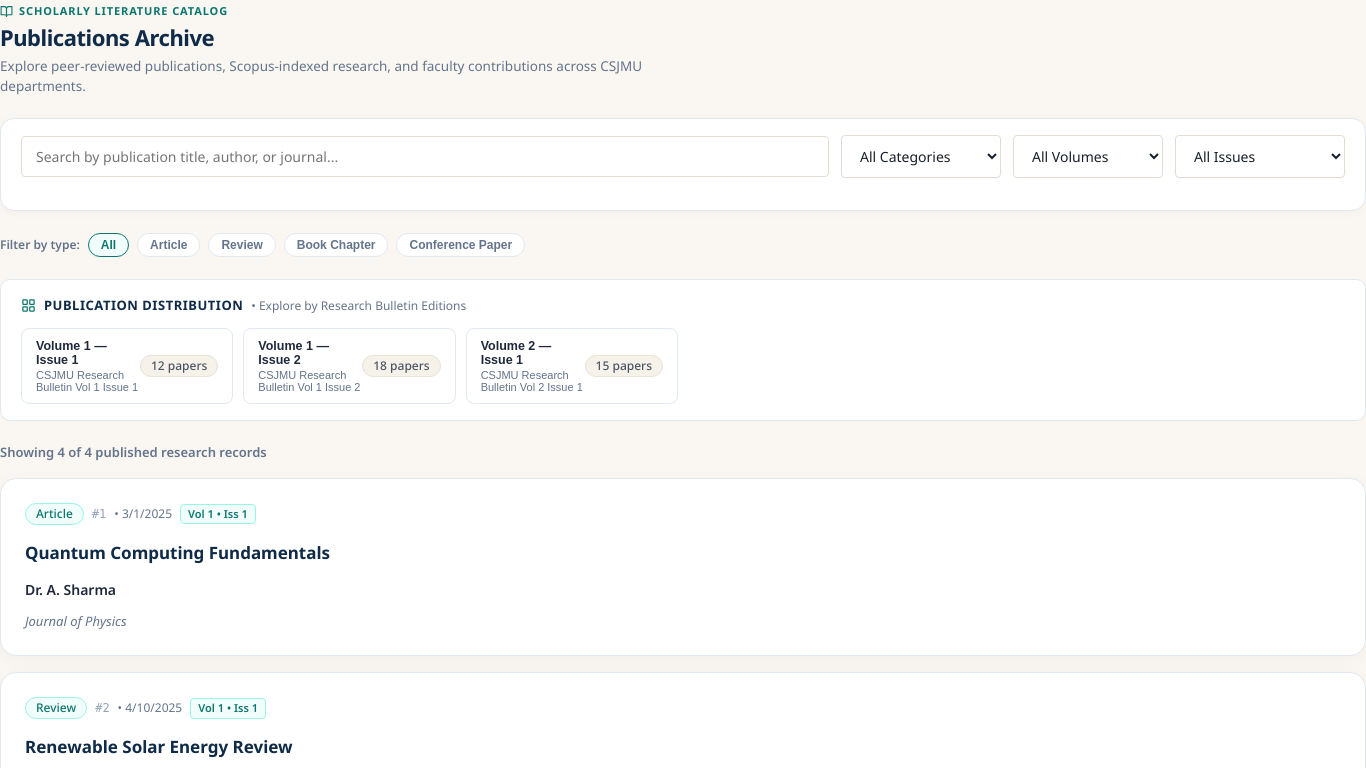
Test case: SamikshaPublicationsTab Bulletin Volume, Issue & Counts Architecture › loads distinct volumes dynamically and filters publications by volume
This screenshot has width=1366, height=768.
Expected: the heading "Quantum Computing Fundamentals" is shown, x1=25 y1=541 x2=330 y2=564
Expected: the heading "Renewable Solar Energy Review" is shown, x1=25 y1=735 x2=293 y2=758
// Select Volume 2
Select "Volume 2" in the dropdown named "Filter by volume" at [1088, 156], box x1=1013 y1=135 x2=1163 y2=178
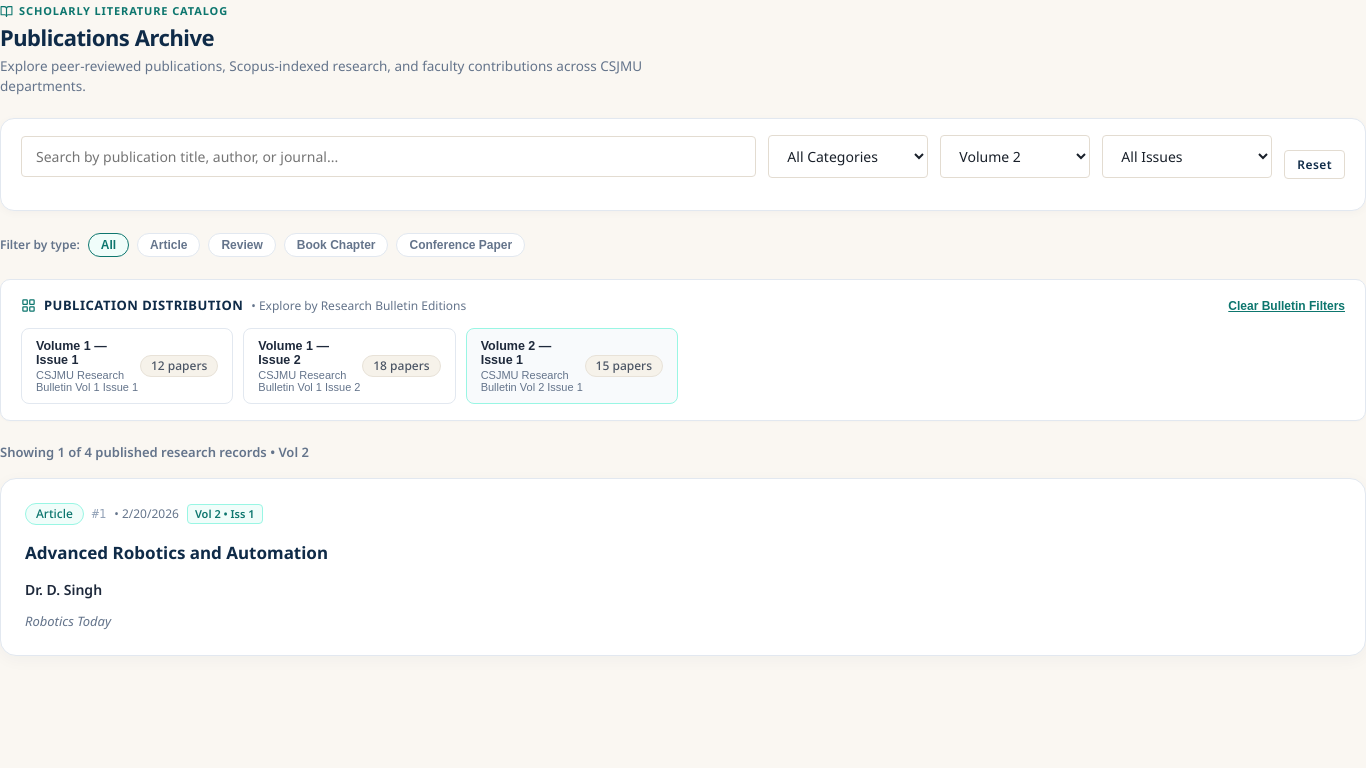
Expected: the heading "Advanced Robotics and Automation" is shown, x1=25 y1=541 x2=328 y2=564
Expected: the heading "Quantum Computing Fundamentals" is gone
Expected: the heading "Renewable Solar Energy Review" is gone
// Select All Volumes again
Select "All Volumes" in the dropdown named "Filter by volume" at [1015, 156], box x1=940 y1=135 x2=1090 y2=178
(page scrolled)
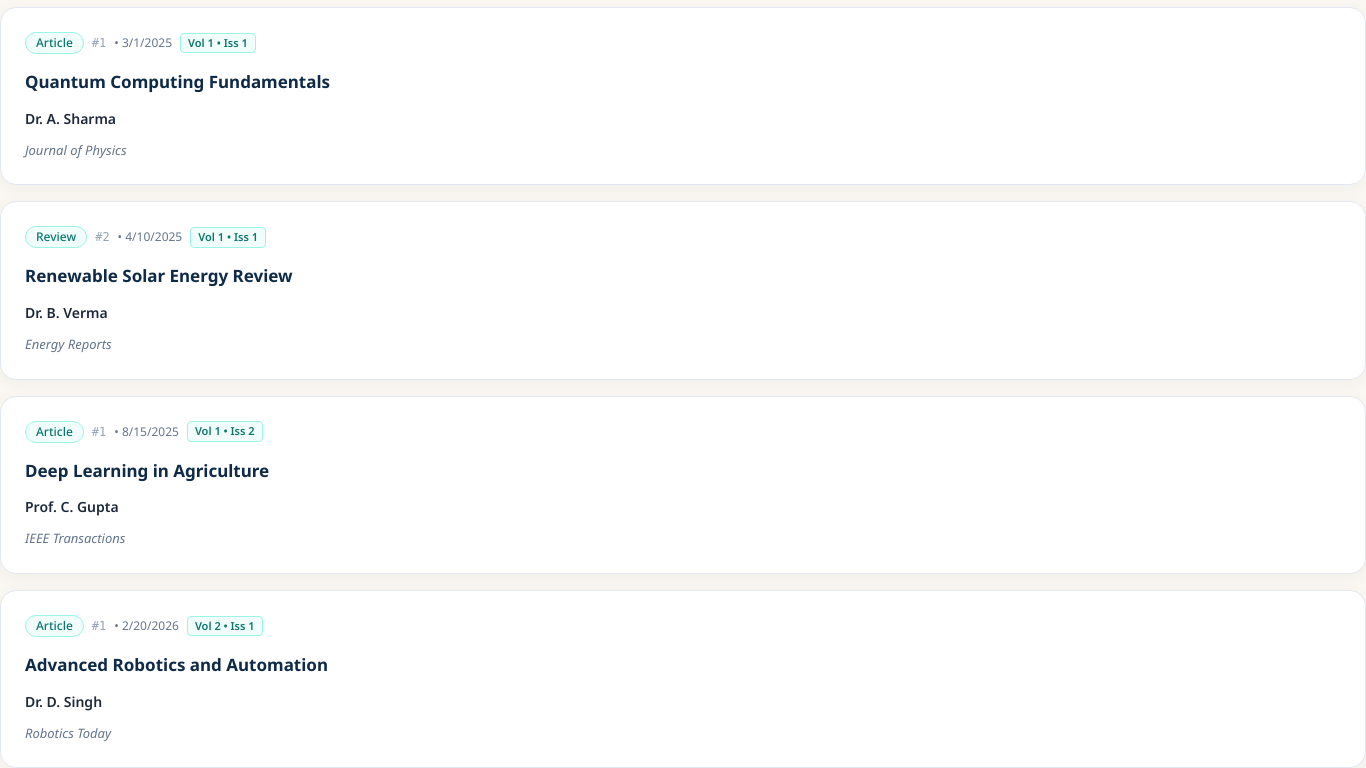
Expected: the heading "Advanced Robotics and Automation" is shown, x1=25 y1=653 x2=328 y2=676
Expected: the heading "Quantum Computing Fundamentals" is shown, x1=25 y1=70 x2=330 y2=93
